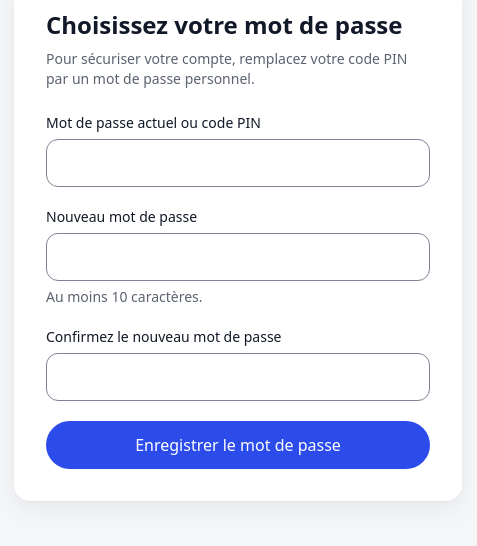
Test: ChangePasswordForm (fr) › refuses to keep the PIN as the password
The width and height of the screenshot is (477, 546).
In the password field labelled "Mot de passe actuel ou code PIN": (238, 163) [46,139,430,187], type "a-brand-new-secret"
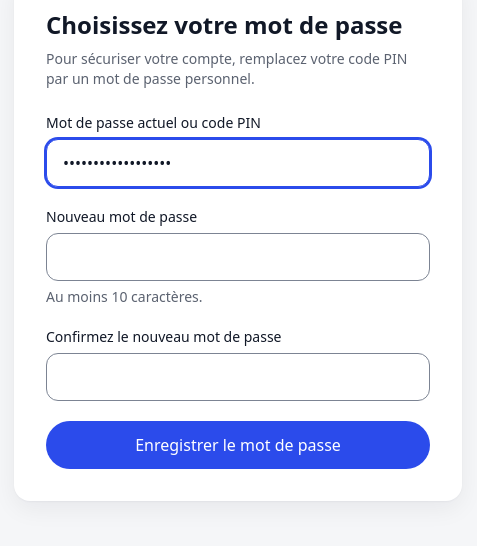
In the password field labelled "Nouveau mot de passe": (238, 257) [46,233,430,281], type "a-brand-new-secret"
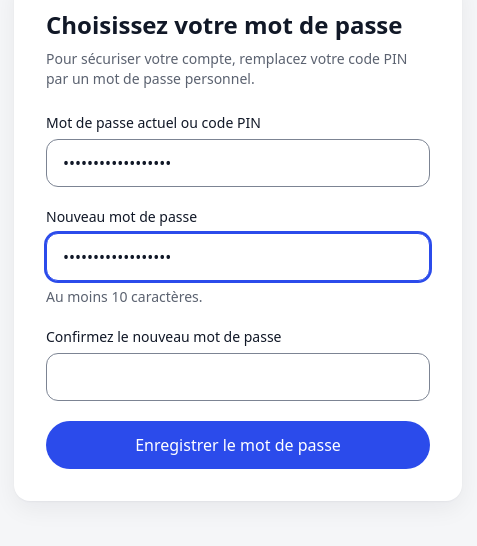
In the password field labelled "Confirmez le nouveau mot de passe": (238, 377) [46,353,430,401], type "a-brand-new-secret"
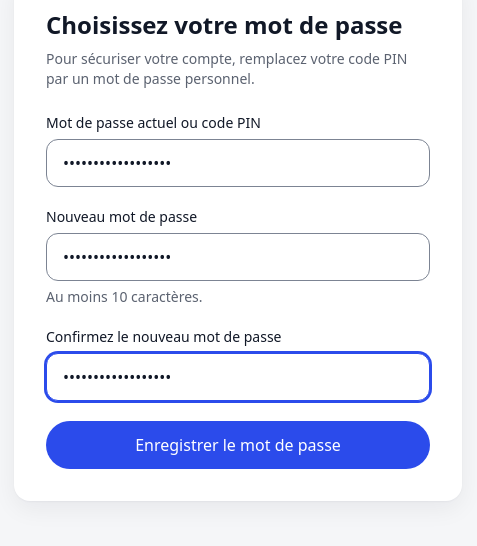
Click the button "Enregistrer le mot de passe": (238, 445) [46,421,430,469]
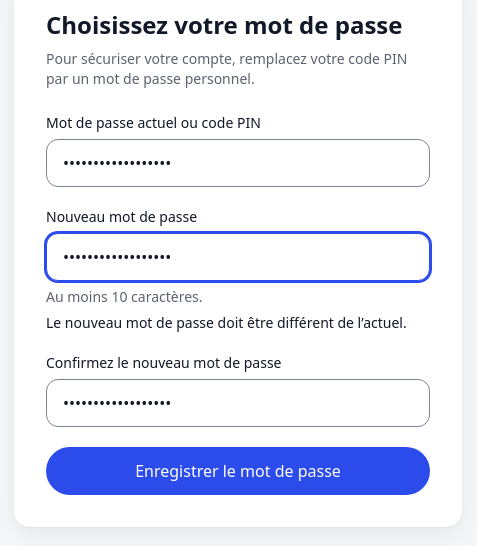
expect the text "Le nouveau mot de passe doit être différent de l’actuel." is shown: met, box [46,313,430,333]
